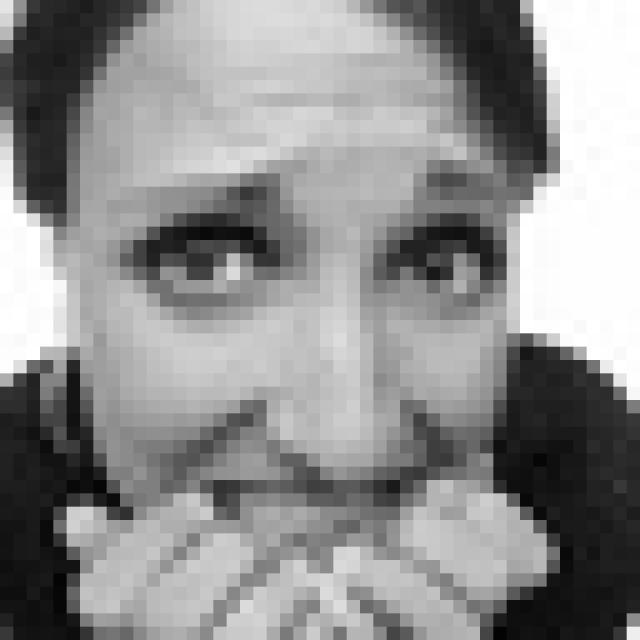fear: (117, 138, 508, 575)
